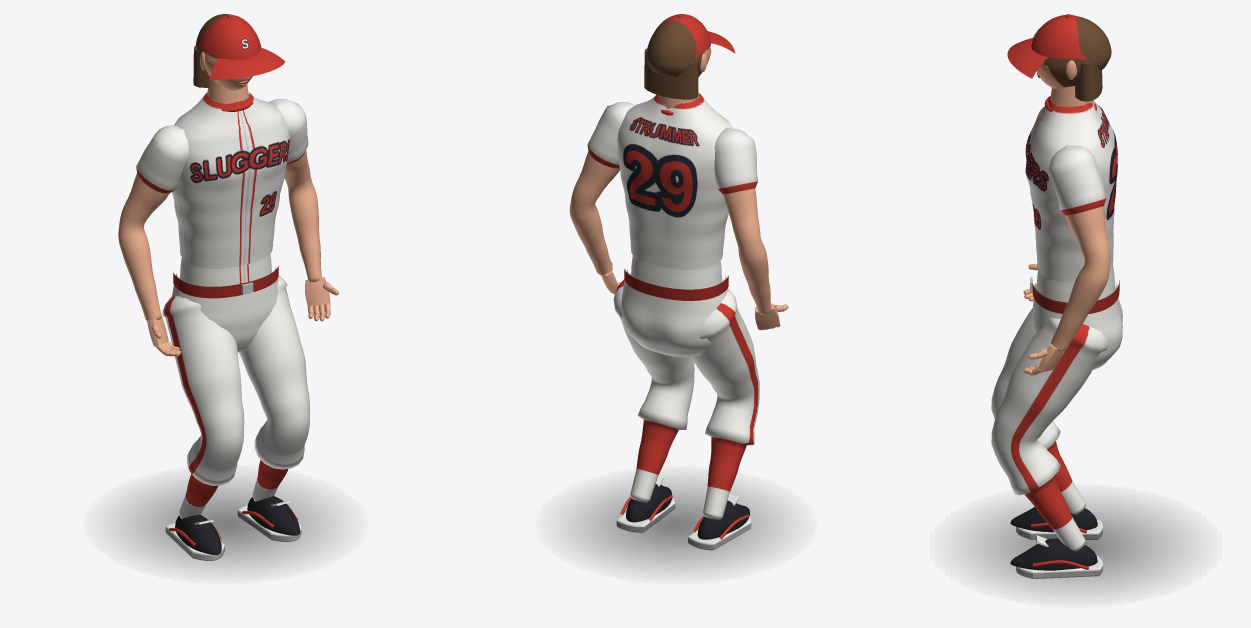
The model's file is player_14_home.glb.
3 renders of one model, left to right at view 1: azimuth 30°, elevation 25°; view 2: azimuth 150°, elevation 25°; view 3: azimuth 270°, elevation 25°, orthographic. The views are drawn at different scales.
Parts seen in each view (by area): view 1: player_14_home, object 31, object 33, object 2; view 2: player_14_home, object 29, object 30, object 31; view 3: player_14_home, object 31, object 29, object 33, object 35, object 30, object 2.
Boxes of the visible parts, bbox=[...] form: player_14_home: bbox=[116, 92, 334, 570]; object 31: bbox=[197, 15, 261, 59]; object 33: bbox=[209, 47, 285, 80]; object 2: bbox=[207, 80, 248, 102]; player_14_home: bbox=[568, 94, 784, 570]; object 29: bbox=[646, 20, 710, 76]; object 30: bbox=[644, 48, 698, 99]; object 31: bbox=[654, 14, 711, 58]; player_14_home: bbox=[965, 96, 1186, 592]; object 31: bbox=[1031, 14, 1087, 60]; object 29: bbox=[1046, 16, 1111, 70]; object 33: bbox=[1007, 37, 1047, 78]; object 35: bbox=[1037, 58, 1099, 88]; object 30: bbox=[1075, 61, 1102, 101]; object 2: bbox=[1050, 86, 1093, 106].
Bounding box in the file's own units: 3.3 × 6.1 × 3.3.
26 materials, 5 textured.
